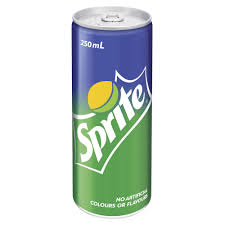can: (68, 5, 158, 219)
